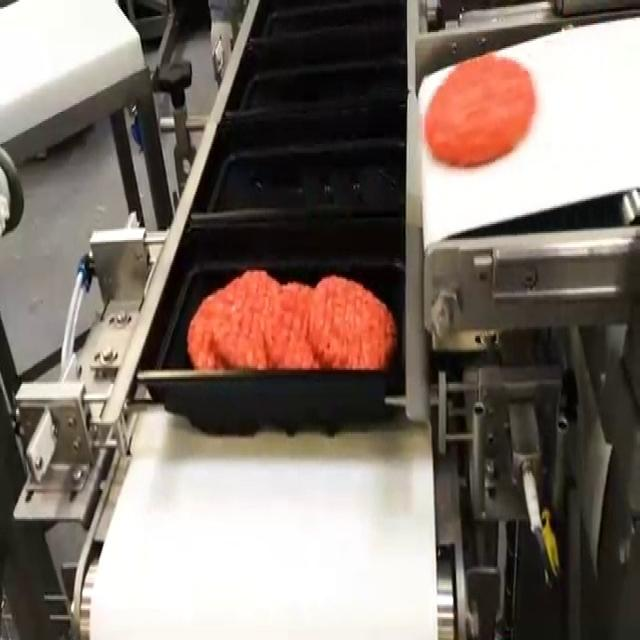4-hamburguer: (187, 270, 396, 370)
hamburguer: (424, 53, 536, 167)
